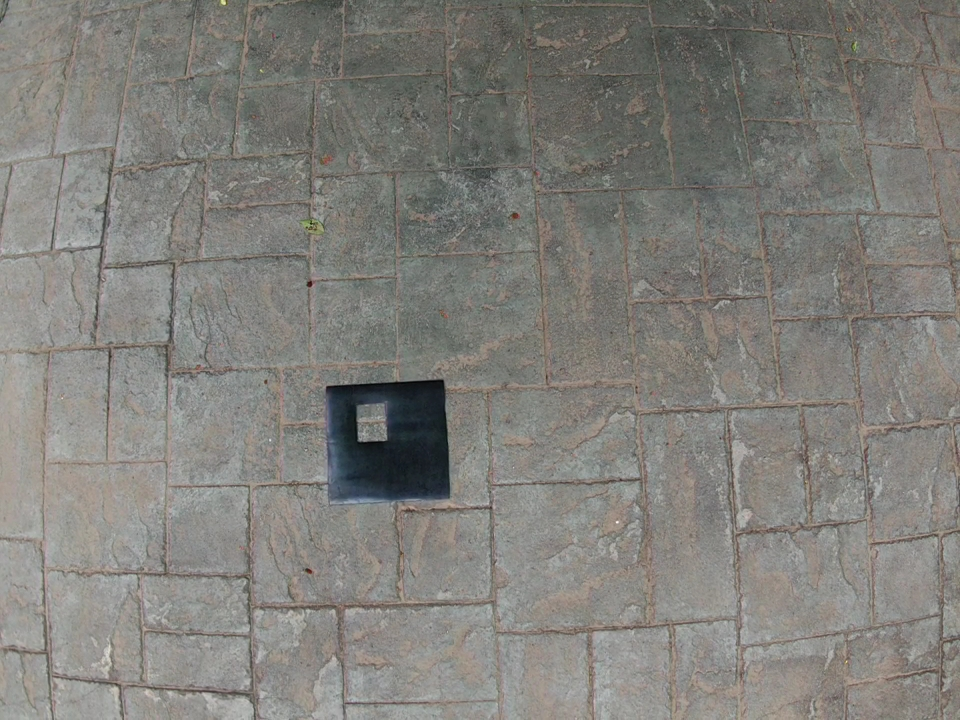qrcode: (326, 380, 450, 500)
